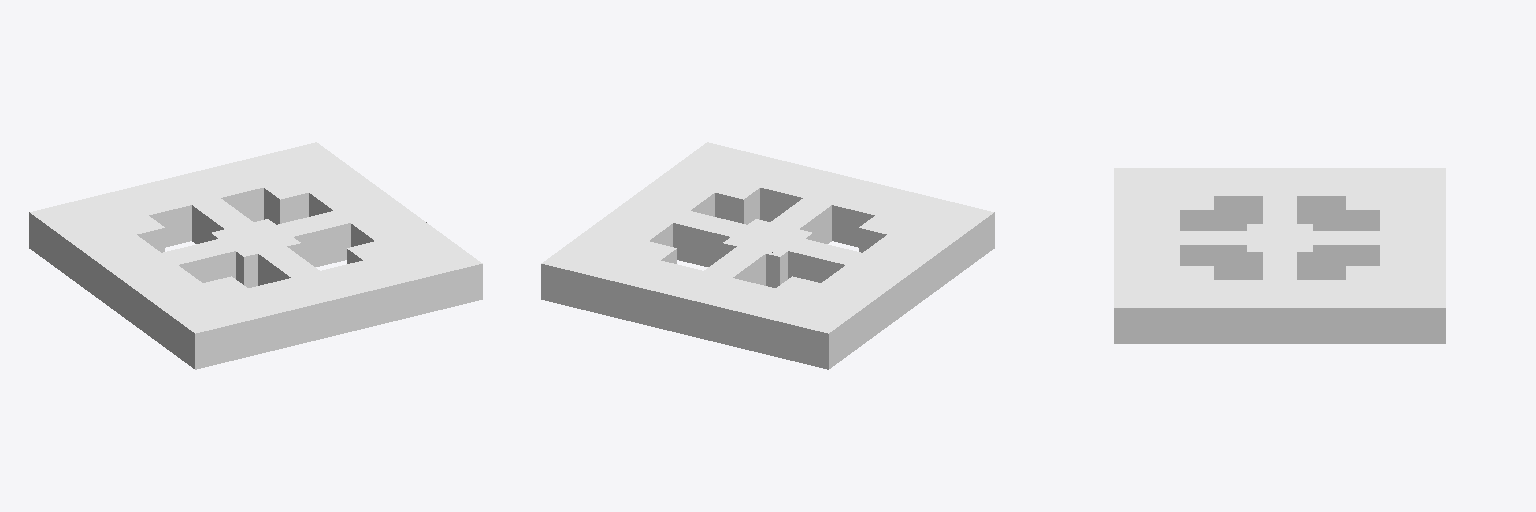
The model's file is room.obj.
3 renders of one model, left to right at view 1: azimuth 30°, elevation 25°; view 2: azimuth 150°, elevation 25°; view 3: azimuth 270°, elevation 25°, orthographic.
Visible parts, largest first — view 1: Mesh02_Mesh02.002, Plane35_Plane35.002, Plane36_Plane36.002, Plane06_Plane06.002, Plane18_Plane18.002, Plane09_Plane09.002, Plane41_Plane41.002, Plane12_Plane12.002, Plane30_Plane30.002, Plane03_Plane03.002, Plane13_Plane13.002; view 2: Mesh02_Mesh02.002, Plane31_Plane31.002, Plane36_Plane36.002, Plane06_Plane06.002, Plane02_Plane02.002, Plane10_Plane10.002, Plane07_Plane07.002, Plane37_Plane37.002, Plane21_Plane21.002, Plane13_Plane13.002, Plane03_Plane03.002; view 3: Mesh02_Mesh02.002, Plane33_Plane33.002, Plane06_Plane06.002, Plane23_Plane23.002, Plane01_Plane01.002, Plane43_Plane43.002, Plane16_Plane16.002, Plane29_Plane29.002, Plane32_Plane32.002.
Part boxes in pixels (bbox=[...]): Mesh02_Mesh02.002: bbox=[30, 142, 482, 333]; Plane35_Plane35.002: bbox=[195, 264, 482, 369]; Plane36_Plane36.002: bbox=[29, 212, 194, 368]; Plane06_Plane06.002: bbox=[162, 198, 349, 277]; Plane18_Plane18.002: bbox=[294, 223, 350, 266]; Plane09_Plane09.002: bbox=[179, 251, 235, 282]; Plane41_Plane41.002: bbox=[149, 205, 191, 247]; Plane12_Plane12.002: bbox=[221, 188, 263, 221]; Plane30_Plane30.002: bbox=[280, 193, 308, 223]; Plane03_Plane03.002: bbox=[192, 205, 223, 243]; Plane13_Plane13.002: bbox=[258, 254, 290, 285]; Mesh02_Mesh02.002: bbox=[541, 142, 993, 333]; Plane31_Plane31.002: bbox=[541, 264, 828, 369]; Plane36_Plane36.002: bbox=[829, 212, 994, 368]; Plane06_Plane06.002: bbox=[674, 198, 861, 277]; Plane02_Plane02.002: bbox=[673, 223, 729, 266]; Plane10_Plane10.002: bbox=[788, 251, 844, 282]; Plane07_Plane07.002: bbox=[832, 205, 874, 247]; Plane37_Plane37.002: bbox=[760, 188, 802, 221]; Plane21_Plane21.002: bbox=[715, 193, 743, 223]; Plane13_Plane13.002: bbox=[800, 205, 831, 243]; Plane03_Plane03.002: bbox=[733, 254, 765, 285]; Mesh02_Mesh02.002: bbox=[1114, 168, 1445, 307]; Plane33_Plane33.002: bbox=[1114, 308, 1445, 343]; Plane06_Plane06.002: bbox=[1180, 196, 1379, 279]; Plane23_Plane23.002: bbox=[1313, 245, 1379, 279]; Plane01_Plane01.002: bbox=[1180, 245, 1246, 279]; Plane43_Plane43.002: bbox=[1214, 196, 1262, 230]; Plane16_Plane16.002: bbox=[1297, 196, 1345, 230]; Plane29_Plane29.002: bbox=[1180, 210, 1213, 230]; Plane32_Plane32.002: bbox=[1346, 210, 1379, 230].
Size of the model in its own units: 1750 by 210 by 1750.